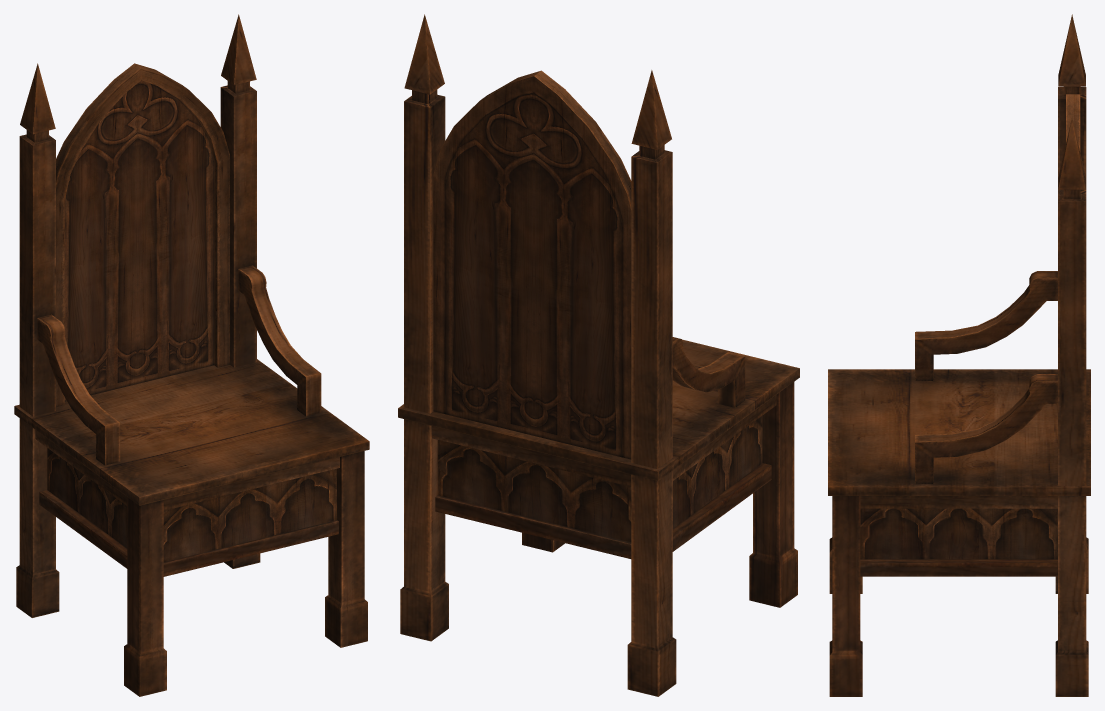
Rendered from HighChair3.dae.
3 views of the same model, side by side, from view 1: azimuth 30°, elevation 25°; view 2: azimuth 150°, elevation 25°; view 3: azimuth 270°, elevation 25° (orthographic). The views are drawn at different scales.
Visible parts, largest first — view 1: HighChairs3; view 2: HighChairs3; view 3: HighChairs3.
Boxes of the visible parts, left/top/right/bottom form: HighChairs3: left=14, top=14, right=369, bottom=696; HighChairs3: left=398, top=14, right=799, bottom=696; HighChairs3: left=828, top=14, right=1090, bottom=696.
Size of the model in its own units: 0.6038 by 1.37 by 0.5685.
Materials: 1 (1 with a texture image).
